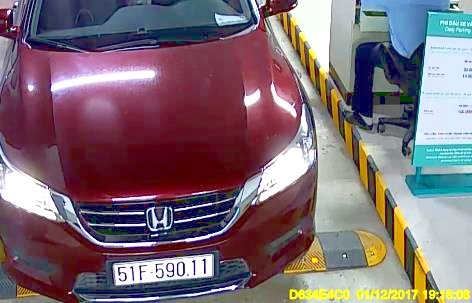plate: (111, 253, 214, 286)
